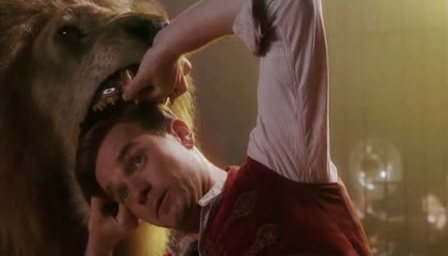face: (99, 128, 193, 229)
mcu: (1, 1, 448, 256)
person: (74, 1, 374, 256)
